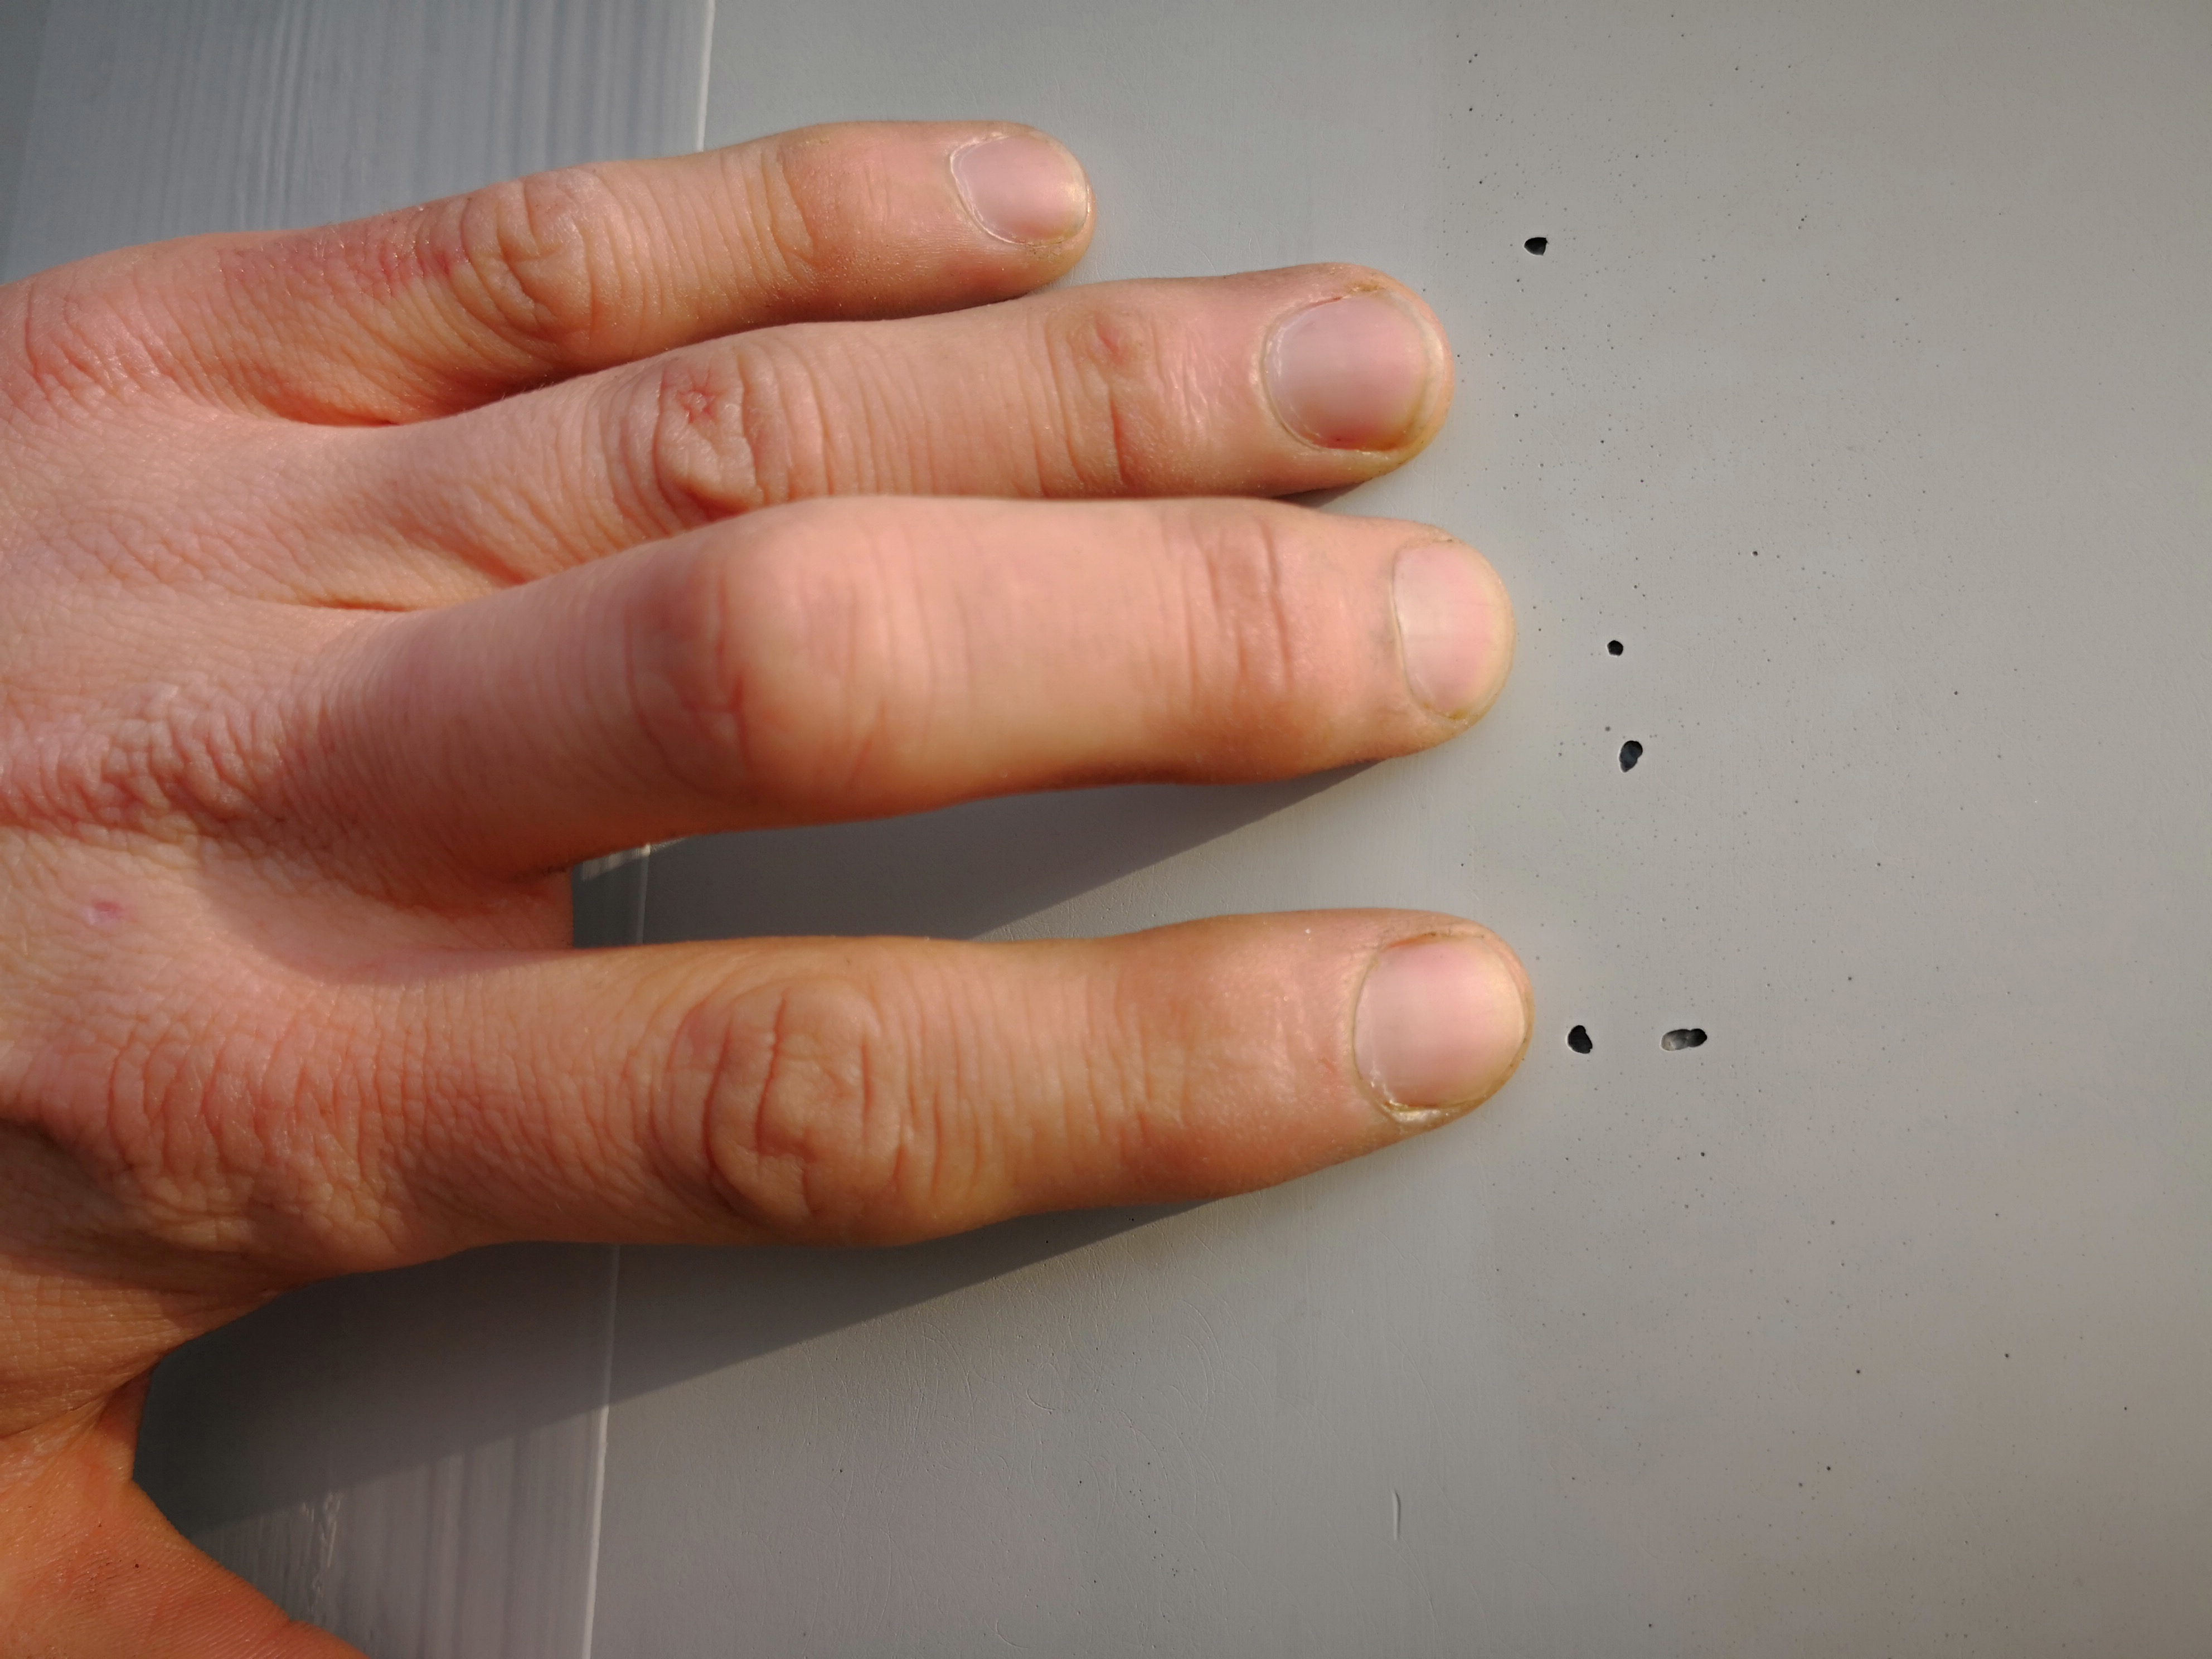SD: (1564, 999, 1724, 1079), (1601, 636, 1655, 777), (1521, 232, 1550, 261)
